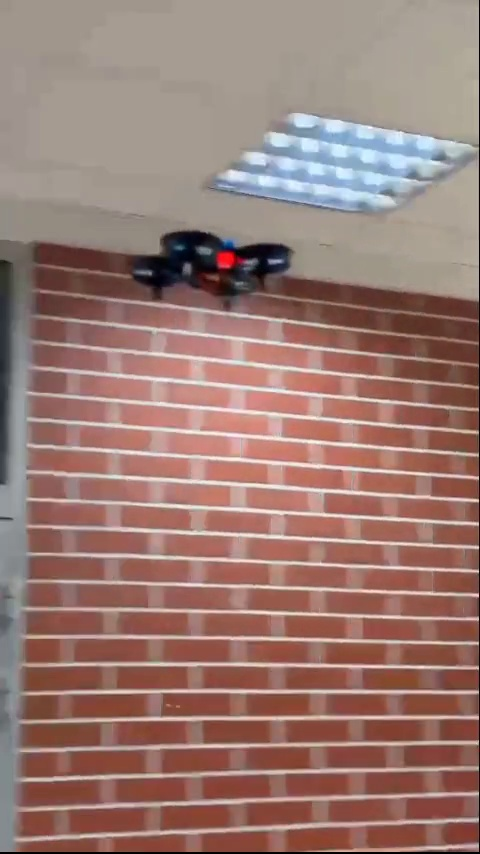drone: (132, 226, 296, 314)
